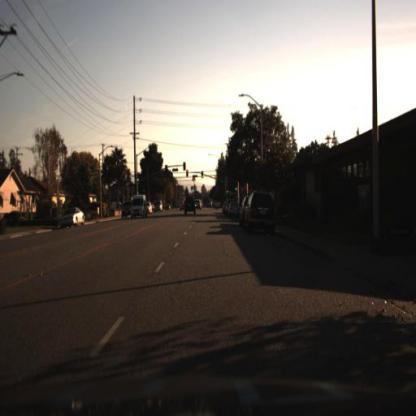car: (246, 191, 280, 230), (56, 203, 87, 235), (58, 203, 88, 227), (127, 194, 150, 224), (237, 193, 249, 235), (132, 195, 148, 219), (183, 195, 198, 215), (228, 200, 241, 221), (153, 199, 166, 215), (147, 200, 155, 221), (176, 202, 188, 215)
trafficLight-Green: (200, 171, 206, 182), (224, 187, 230, 197), (235, 185, 240, 196)
trafficLight-Red: (185, 167, 190, 178)
